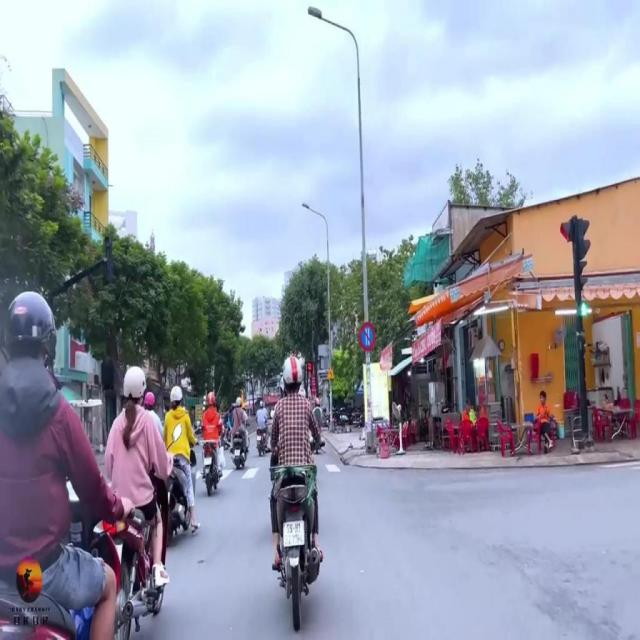cam_do_xe: (359, 320, 376, 354)
cho_ngoat_nguy_hiem_ben_trai: (327, 366, 335, 380)
